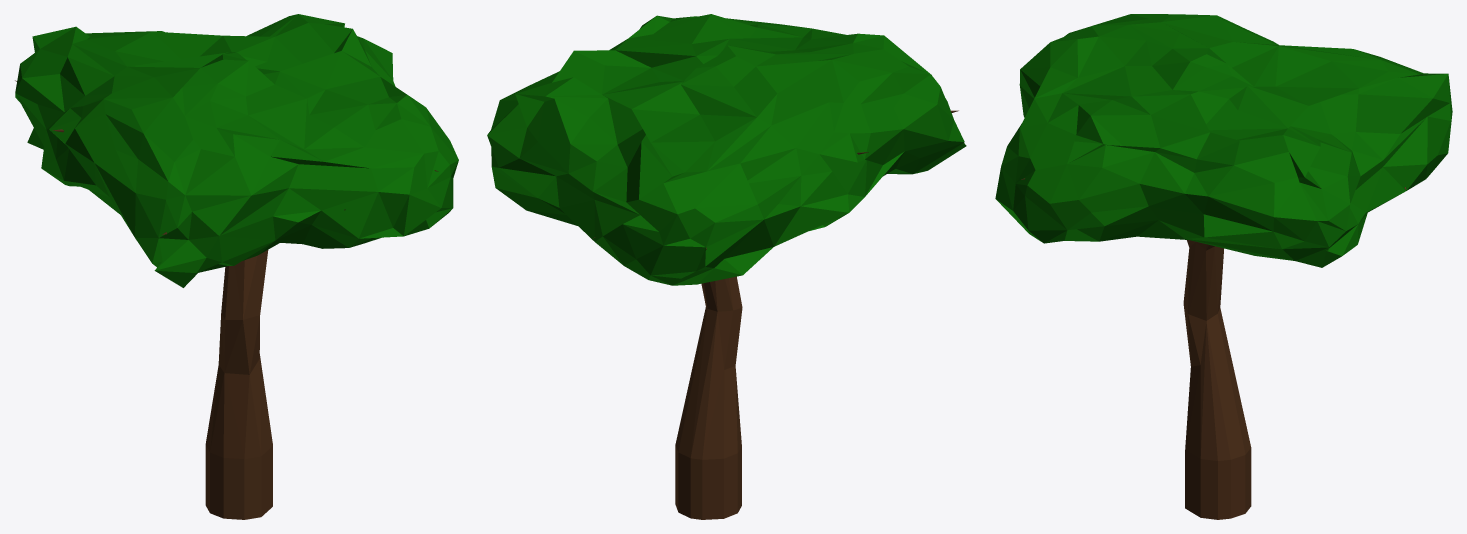
Rendered from Tree3.0.LOD.fbx.
3 views of the same model, side by side, from view 1: azimuth 30°, elevation 25°; view 2: azimuth 150°, elevation 25°; view 3: azimuth 270°, elevation 25° (orthographic). The views are drawn at different scales.
Visible parts, largest first — view 1: Tree3.1_LOD0; view 2: Tree3.1_LOD0; view 3: Tree3.1_LOD0.
Part boxes in pixels (bbox=[...]): Tree3.1_LOD0: bbox=[15, 14, 458, 519]; Tree3.1_LOD0: bbox=[487, 14, 966, 519]; Tree3.1_LOD0: bbox=[995, 14, 1452, 519].
Size of what is drawn, in the model's own units: 1403 by 1714 by 1607.
1 material, 1 textured.
